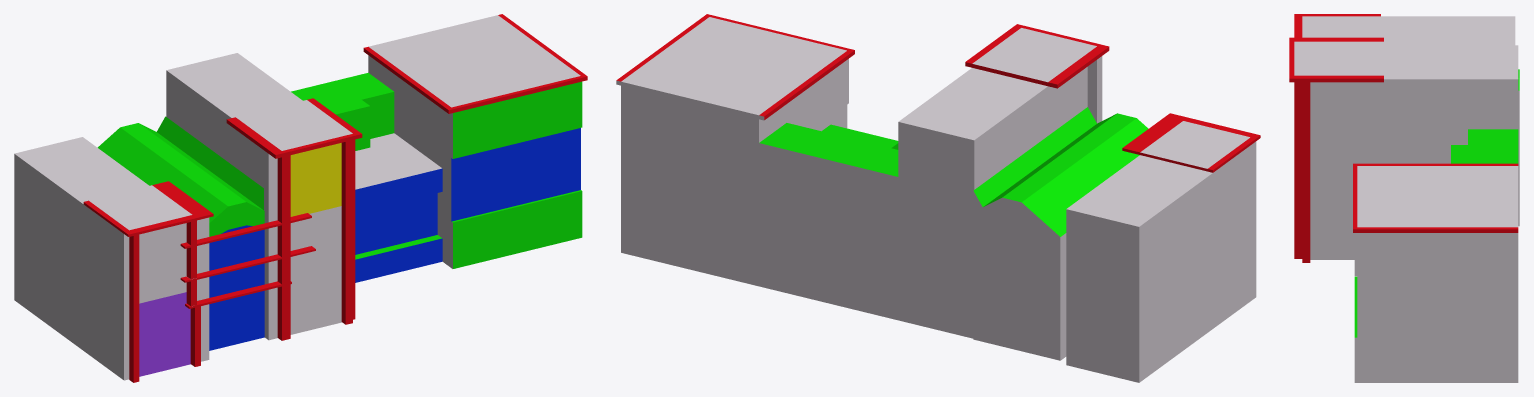
File: loppersumModel.fbx
3 renders of one model, left to right at view 1: azimuth 30°, elevation 25°; view 2: azimuth 150°, elevation 25°; view 3: azimuth 270°, elevation 25°, orthographic. The views are drawn at different scales.
Visible parts, largest first — view 1: Cube; view 2: Cube; view 3: Cube.
Part boxes in pixels (box(x1,y1,x2,y2)): Cube: box(14, 14, 587, 382); Cube: box(616, 14, 1260, 382); Cube: box(1289, 14, 1519, 382).
Bounding box in the file's own units: 2654 × 1014 × 1117.
